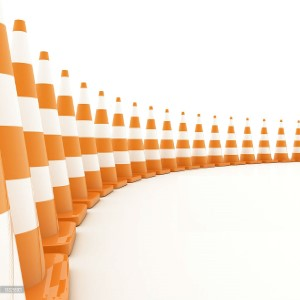traffic cone: (1, 22, 70, 300), (1, 19, 80, 255), (20, 51, 87, 226), (47, 69, 101, 210), (71, 82, 114, 198), (88, 90, 128, 188), (106, 97, 141, 184), (127, 102, 156, 179), (143, 106, 170, 174), (159, 108, 185, 172), (175, 111, 200, 171), (188, 114, 215, 168), (203, 115, 230, 166), (232, 117, 261, 163), (222, 115, 246, 166), (271, 119, 294, 163), (255, 118, 277, 164), (291, 118, 300, 163)
